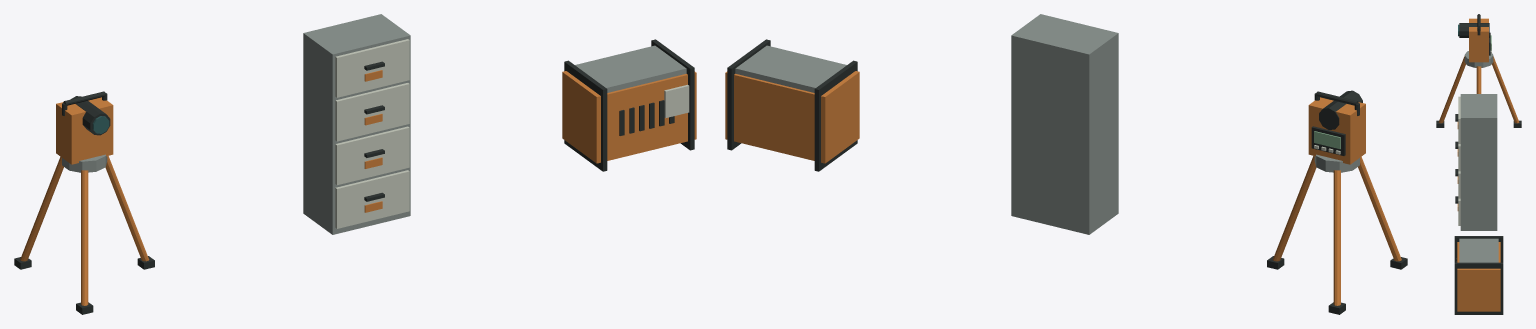
File: observatory.glb
3 renders of one model, left to right at view 1: azimuth 30°, elevation 25°; view 2: azimuth 150°, elevation 25°; view 3: azimuth 270°, elevation 25°, orthographic. The views are drawn at different scales.
Parts seen in each view (by area): view 1: Locker, Generator_body, Generator_top, Drawer, Drawer.003, Drawer.002, Drawer.001, Body, Frame, Tripod_leg.002, Frame.001, Tripod_leg (+4 smaller); view 2: Locker, Generator_body, Generator_top, Body, Frame, Tripod_leg.001, Frame.001, Tripod_leg, Tripod_leg.002, Optical_barrel, Base; view 3: Locker, Generator_body, Generator_top, Frame.001, Body, Frame, Tripod_leg.001, Tripod_leg.002, Optical_barrel, Base, Tripod_leg, Drawer.003 (+3 smaller).
Part boxes in pixels (x1,y1,x2,y2): Locker: (303,14,410,234); Generator_body: (562,71,696,163); Generator_top: (575,45,686,92); Drawer: (335,170,409,228); Drawer.003: (335,39,409,97); Drawer.002: (335,83,409,141); Drawer.001: (335,126,409,185); Body: (56,97,113,164); Frame: (564,60,607,171); Tripod_leg.002: (81,170,88,305); Frame.001: (651,39,694,150); Tripod_leg: (105,156,149,261); Locker: (1011,14,1118,234); Generator_body: (725,71,859,163); Generator_top: (735,45,846,92); Body: (1308,97,1365,164); Frame: (814,60,857,171); Tripod_leg.001: (1333,170,1340,305); Frame.001: (727,39,770,150); Tripod_leg: (1272,156,1316,261); Tripod_leg.002: (1358,157,1401,261); Optical_barrel: (1319,90,1362,129); Base: (1314,154,1359,172); Locker: (1460,94,1497,230); Generator_body: (1457,242,1500,311); Generator_top: (1459,238,1498,262); Frame.001: (1454,262,1503,314); Body: (1469,18,1488,62); Frame: (1454,236,1503,262); Tripod_leg.001: (1492,56,1519,123); Tripod_leg.002: (1438,56,1465,123); Optical_barrel: (1459,23,1489,37); Base: (1464,51,1493,67); Tripod_leg: (1476,66,1481,93); Drawer.003: (1458,96,1460,143).
Bounding box in the file's own units: 6.95 × 1.94 × 1.3.
